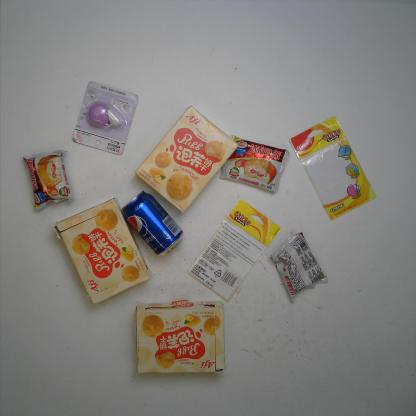Dessert: (135, 102, 239, 214), (51, 197, 154, 306), (134, 299, 226, 376), (216, 132, 292, 194), (270, 232, 332, 302), (21, 143, 76, 211)
Drink: (119, 189, 186, 258)
Stationery: (184, 194, 284, 308), (287, 115, 379, 224), (70, 79, 140, 157)
